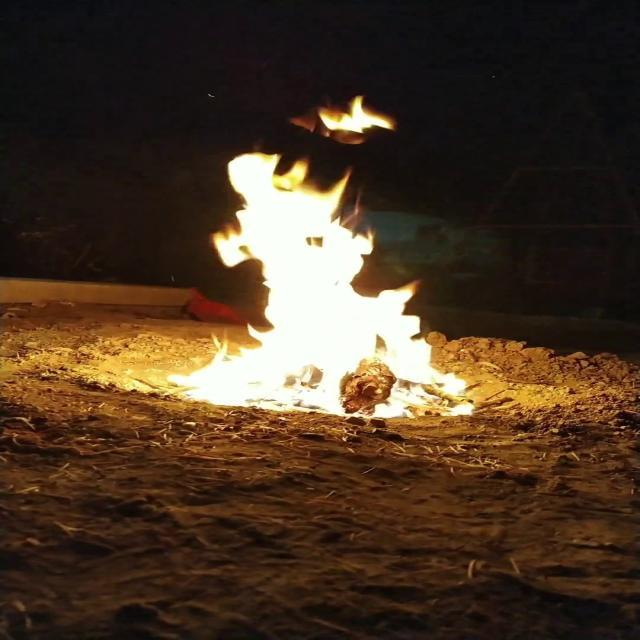Fire: (168, 146, 479, 417)
